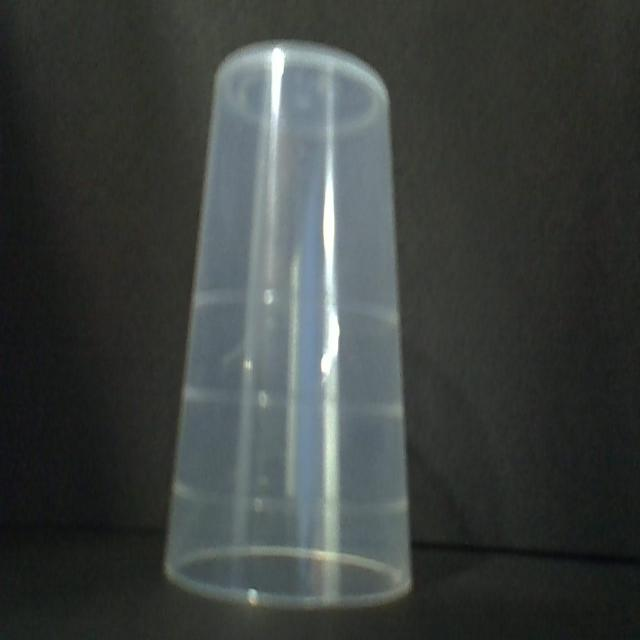cup: (164, 36, 417, 608)
